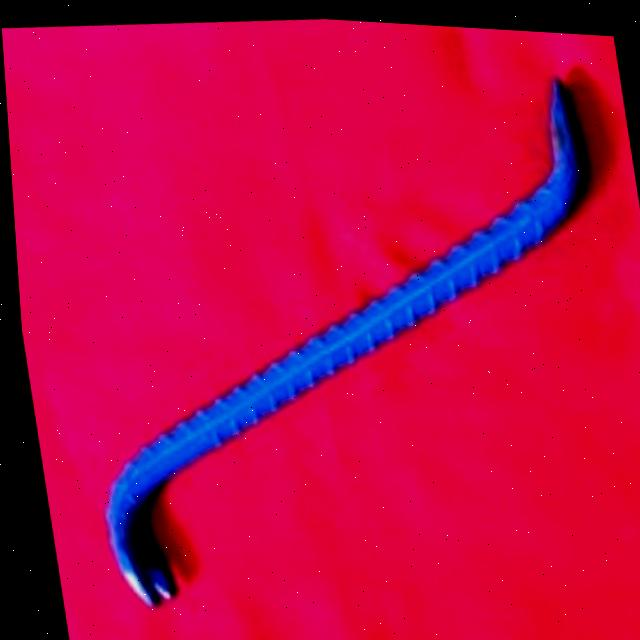crow bar: (93, 71, 584, 602)
